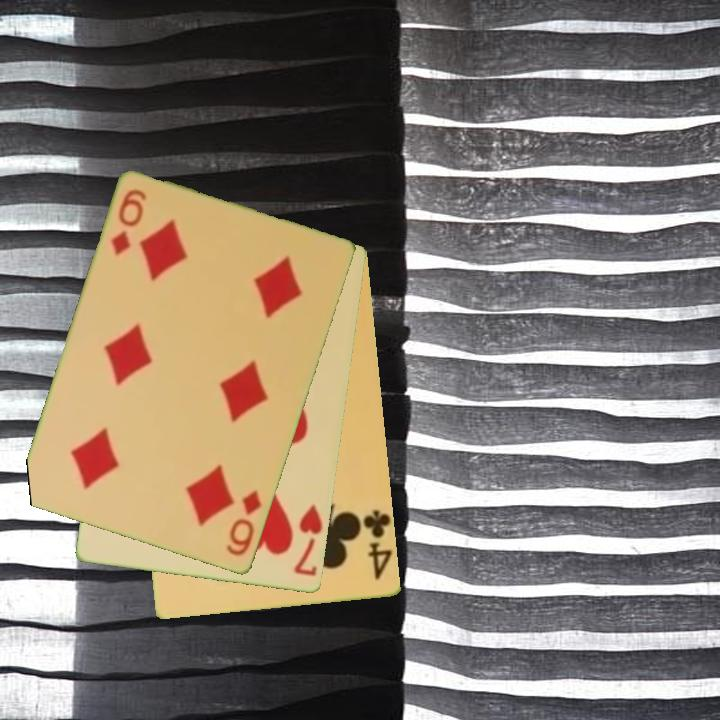4c: (360, 507, 395, 583)
6d: (107, 186, 151, 259), (223, 487, 265, 560)
7h: (290, 501, 326, 579)
